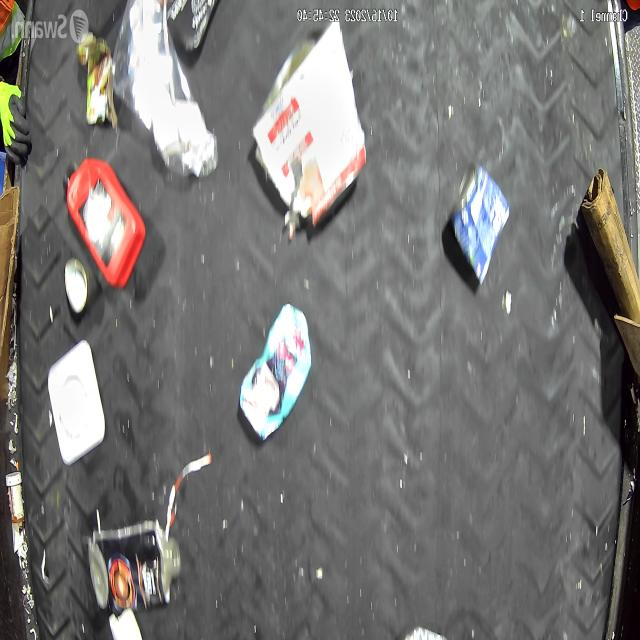can: (450, 161, 510, 287), (65, 256, 89, 312)
non_white_jug: (66, 158, 144, 289), (238, 304, 312, 442)
